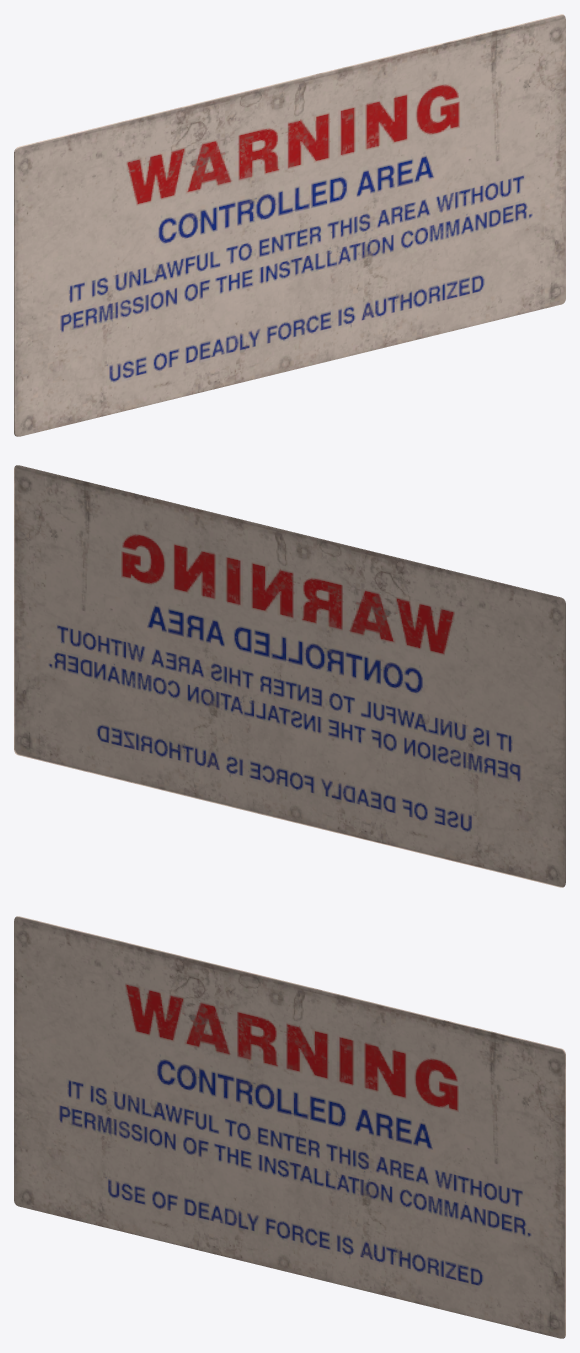
The model's file is SM_Sign_01b.glb.
3 renders of one model, top to bottom at view 1: azimuth 30°, elevation 25°; view 2: azimuth 150°, elevation 25°; view 3: azimuth 330°, elevation 25°, orthographic.
Visible parts, largest first — view 1: SM_Sign_01b; view 2: SM_Sign_01b; view 3: SM_Sign_01b.
Part boxes in pixels (box(x1,y1,x2,y2)): SM_Sign_01b: box(14, 14, 565, 436); SM_Sign_01b: box(14, 465, 565, 887); SM_Sign_01b: box(14, 916, 565, 1338).
Size of the model in its own units: 0.7 by 0.3517 by 0.00195.
1 material, 1 textured.
